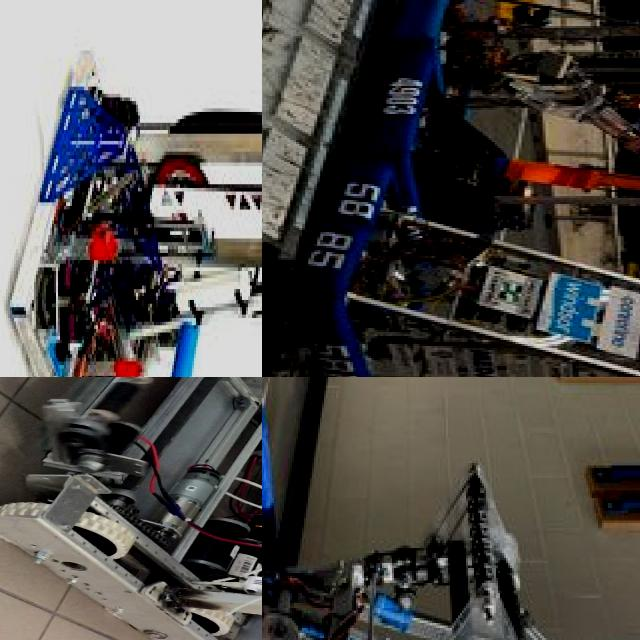FRC-Robots: (262, 390, 640, 640), (0, 41, 262, 377), (0, 377, 262, 640), (302, 178, 640, 377), (320, 57, 640, 189), (393, 0, 640, 122)
